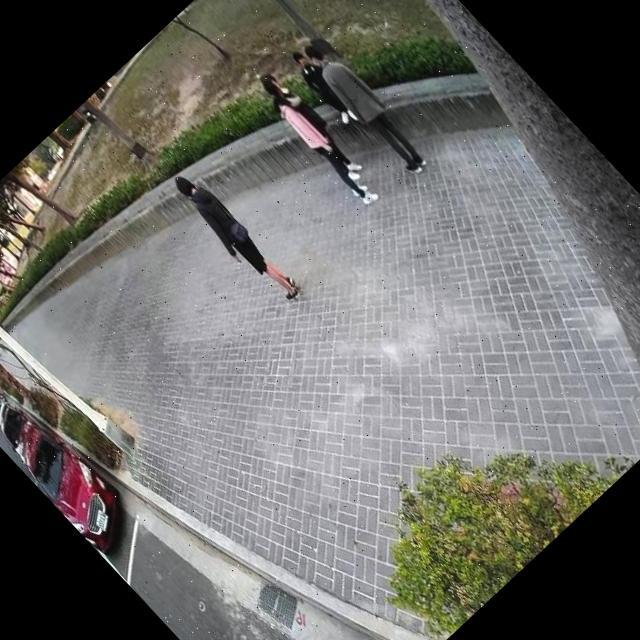person: (160, 158, 312, 316), (294, 28, 439, 180), (246, 66, 388, 216), (248, 56, 373, 186), (280, 38, 368, 130)
